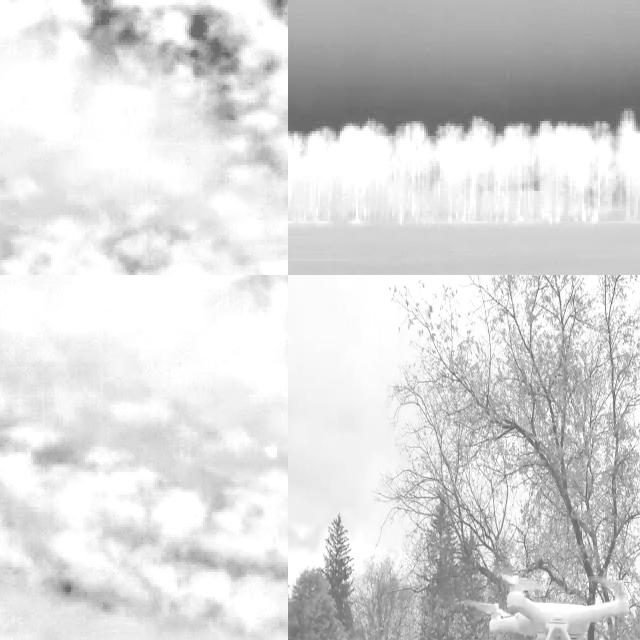0: (255, 432, 288, 472)
drone: (490, 573, 629, 640)
